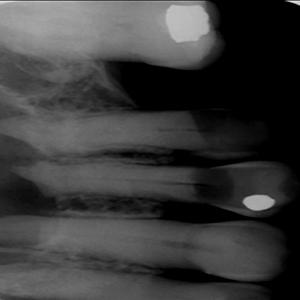tooth: (0, 214, 289, 285), (17, 157, 292, 219), (0, 107, 266, 160)
